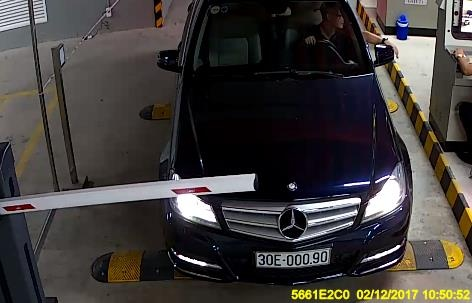plate: (249, 242, 343, 272)
